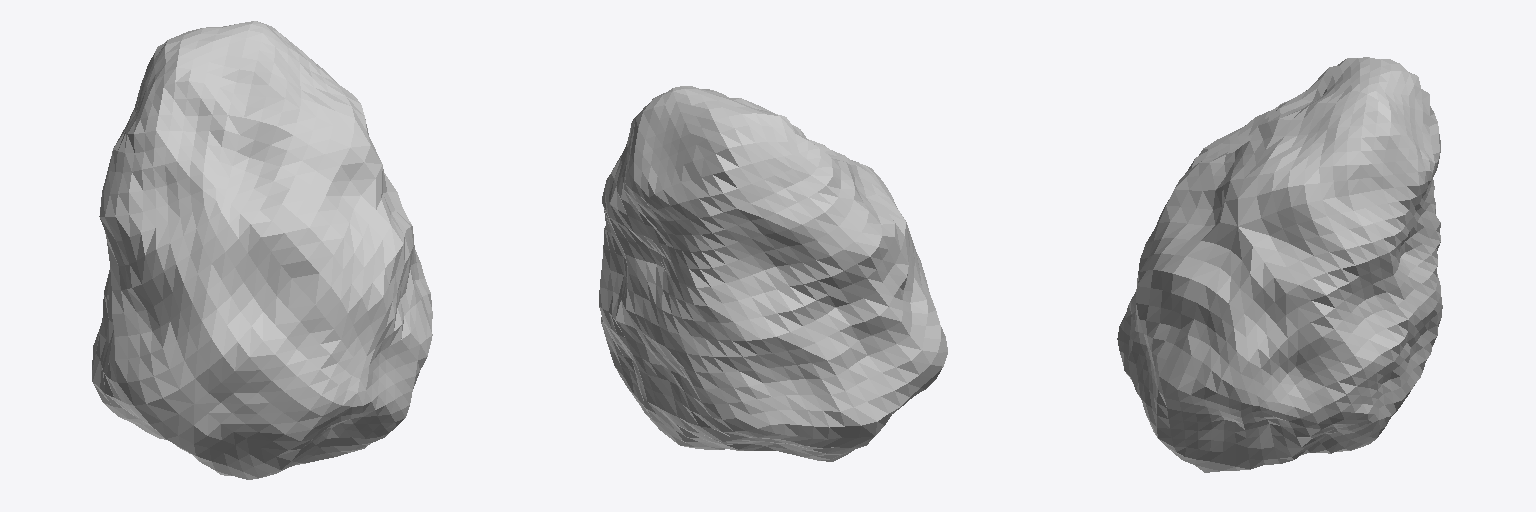
The model's file is asteroid_007.obj.
3 views of the same model, side by side, from view 1: azimuth 30°, elevation 25°; view 2: azimuth 150°, elevation 25°; view 3: azimuth 270°, elevation 25° (orthographic).
Parts seen in each view (by area): view 1: rock; view 2: rock; view 3: rock.
Part boxes in pixels (x1,y1,x2,y2): rock: (92,21,432,479); rock: (599,86,947,461); rock: (1117,57,1442,472).
Size of the model in its own units: 2.64 by 3.19 by 2.47.